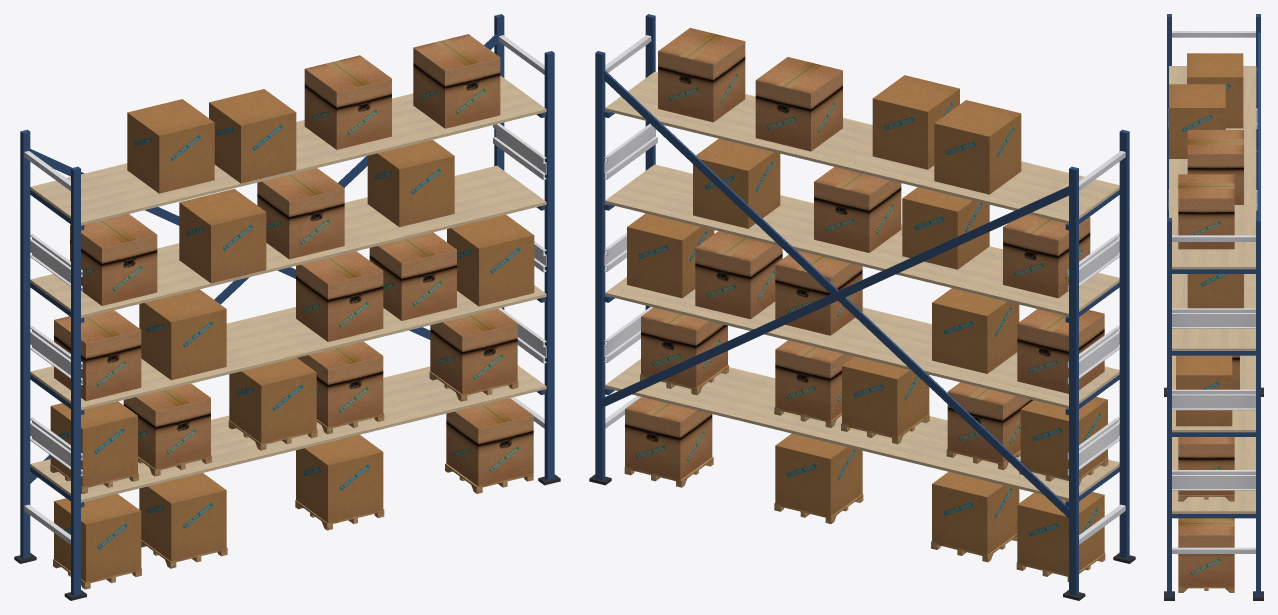
File: BigShelves03Group1.FBX
The picture shows the model from 3 angles, left to right: view 1: azimuth 30°, elevation 25°; view 2: azimuth 150°, elevation 25°; view 3: azimuth 270°, elevation 25°; orthographic projection. The views are drawn at different scales.
Parts seen in each view (by area): view 1: Cardboard_box01, Cardboard_box05, BigShelves03, BigShelvesWoodBox; view 2: BigShelves03, Cardboard_box01, Cardboard_box05, BigShelvesWoodBox; view 3: BigShelves03, Cardboard_box05, Cardboard_box01, BigShelvesWoodBox.
Part boxes in pixels (x1,y1,x2,y2): Cardboard_box01: [50, 89, 534, 582]; Cardboard_box05: [54, 34, 533, 486]; BigShelves03: [14, 14, 560, 600]; BigShelvesWoodBox: [50, 371, 533, 589]; BigShelves03: [589, 14, 1135, 600]; Cardboard_box01: [627, 75, 1107, 574]; Cardboard_box05: [625, 28, 1104, 480]; BigShelvesWoodBox: [624, 365, 1108, 581]; BigShelves03: [1164, 14, 1263, 600]; Cardboard_box05: [1178, 130, 1243, 586]; Cardboard_box01: [1169, 53, 1243, 426]; BigShelvesWoodBox: [1178, 495, 1234, 592].
Size of the model in its own units: 355 by 299 by 71.14.
